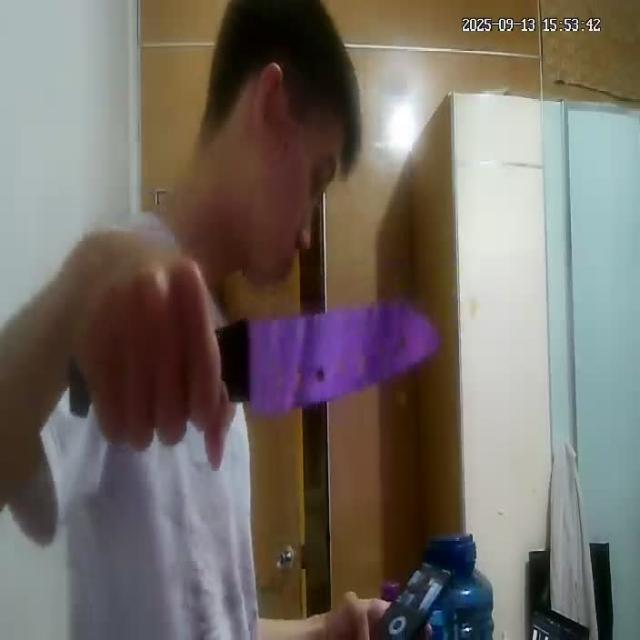senjata_tajam: (218, 298, 450, 416)
